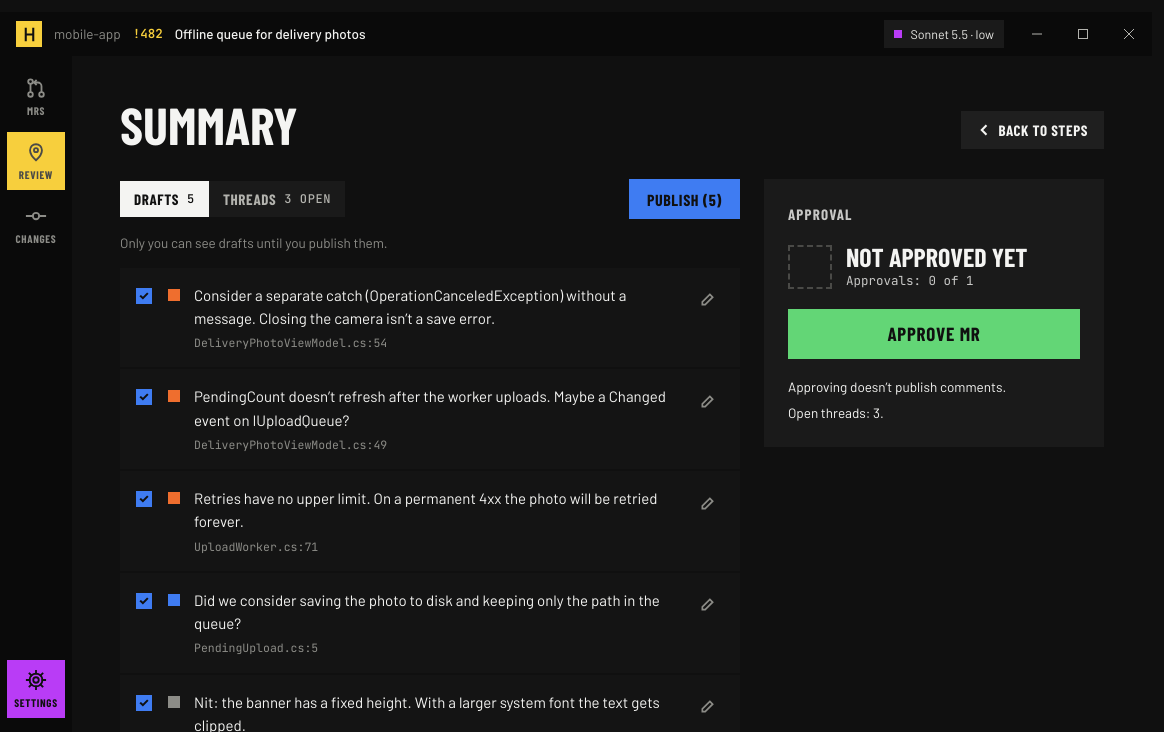
Test case: S-05 editing a draft in place (F-12.3, M5 decision 6) › F-12.3 Cancel does what Esc does
The width and height of the screenshot is (1164, 732).
Click the button named "Edit comment 5": (708, 707) [692,691,724,723]
(page scrolled)
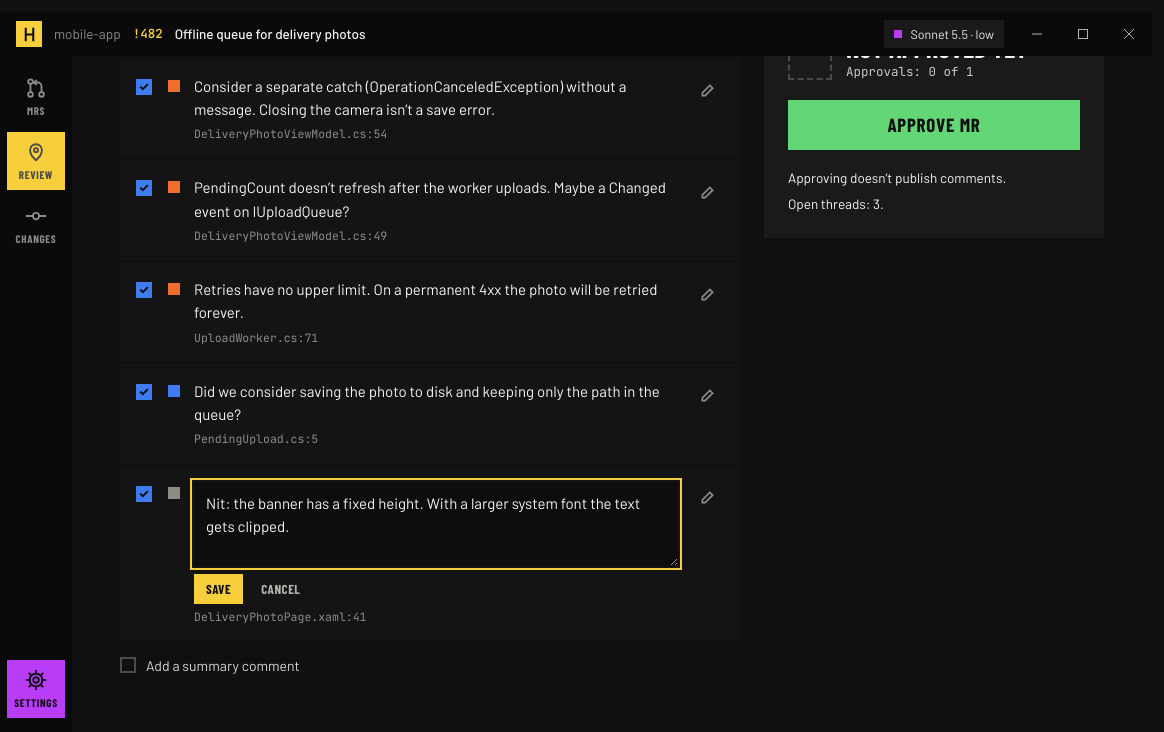
In the text box: (436, 524) [194,482,678,566], type " More words."
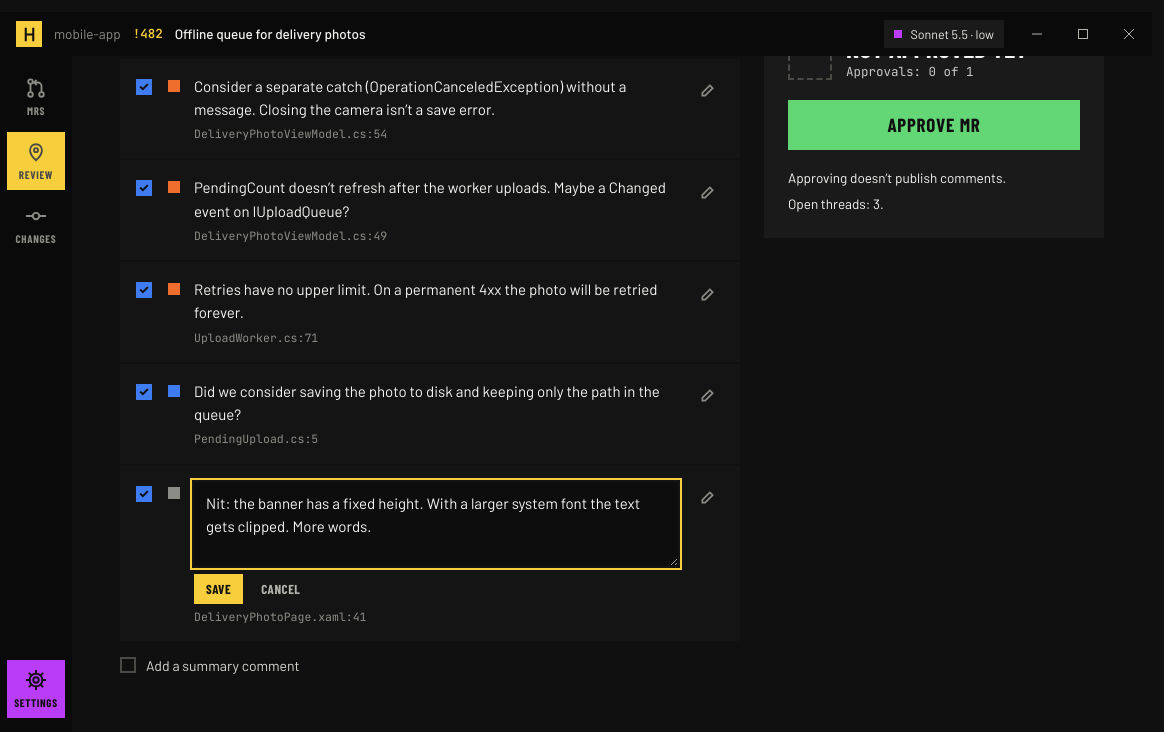
Click the button "Cancel": (281, 589) [249,574,312,604]
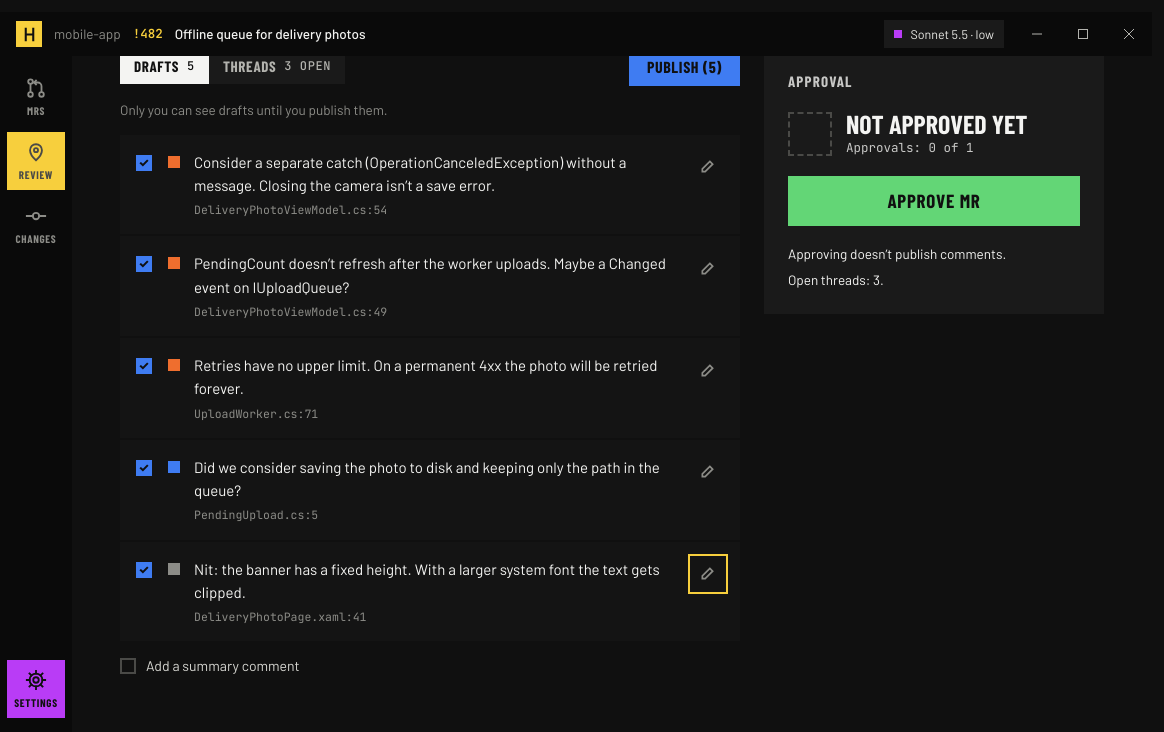
Check: the text "Nit: the banner has a fixed height. With a larger system font the text gets clipped." is shown, box [194,560,660,601]
